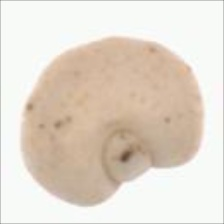L5: (99, 126, 157, 184)
L6: (14, 33, 209, 210)
